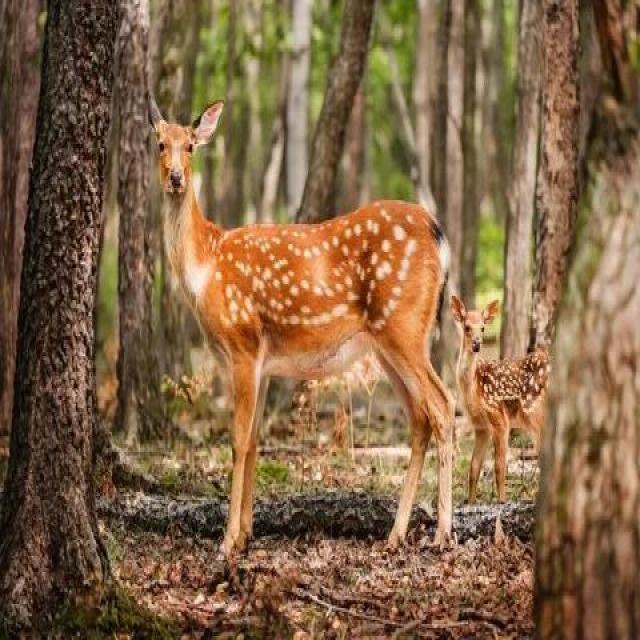deer: (140, 86, 480, 563)
